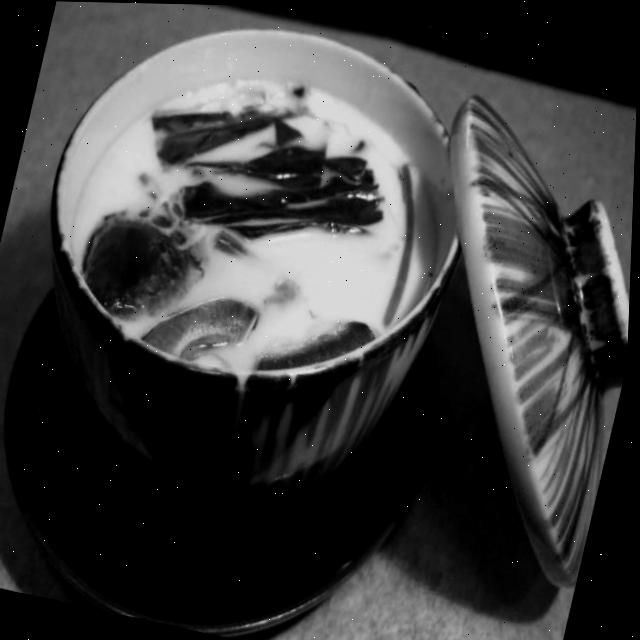鸡蛋料理: (0, 0, 519, 612)
